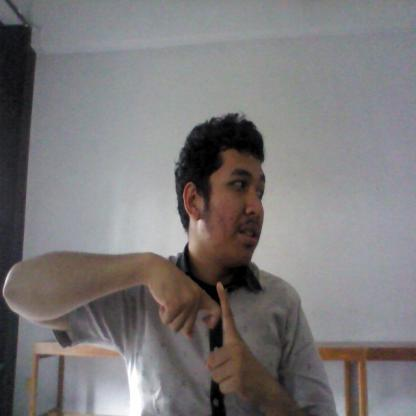K: (132, 252, 250, 402)
